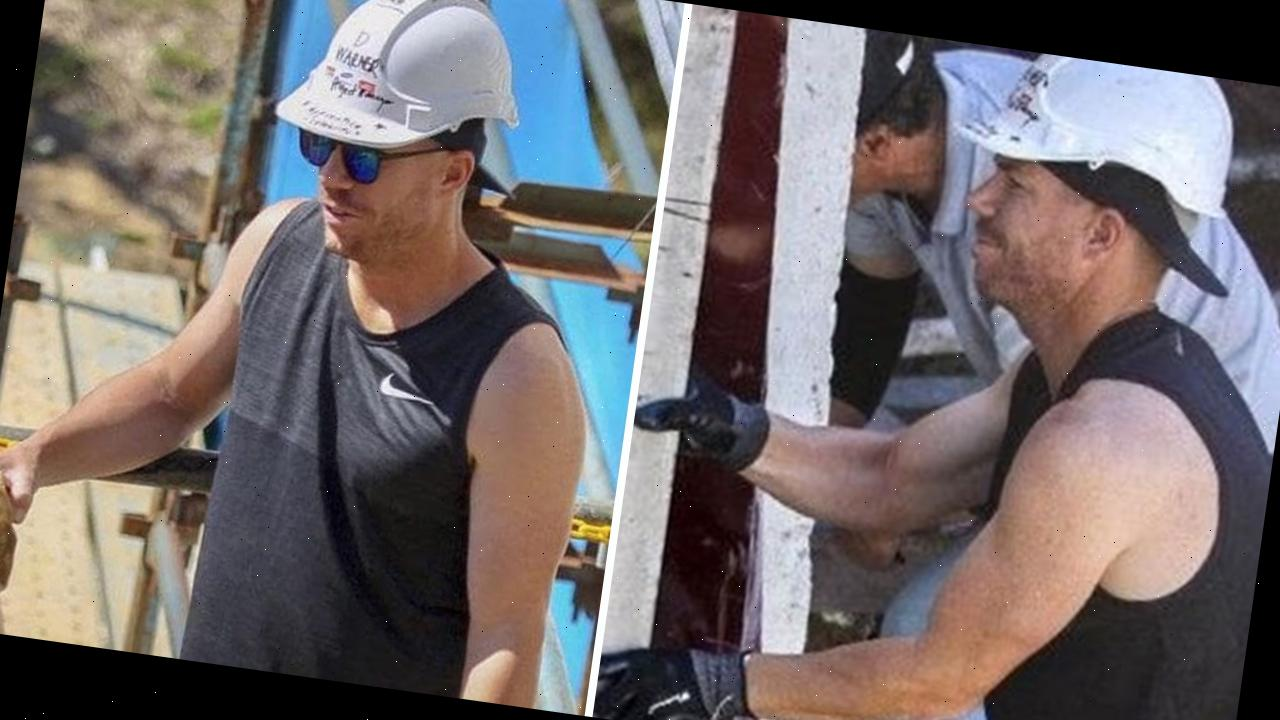helmet: (946, 45, 1247, 221), (273, 0, 544, 171)
no_wear: (170, 255, 595, 710), (949, 329, 1280, 720)
